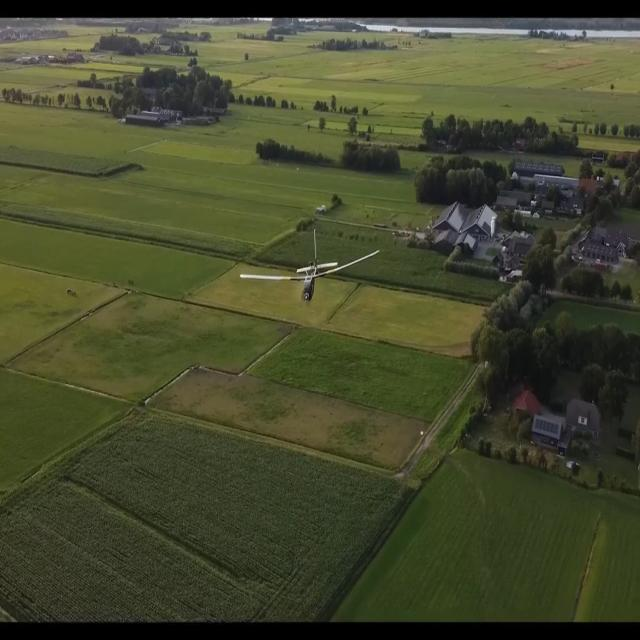iha: (236, 259, 383, 282)
